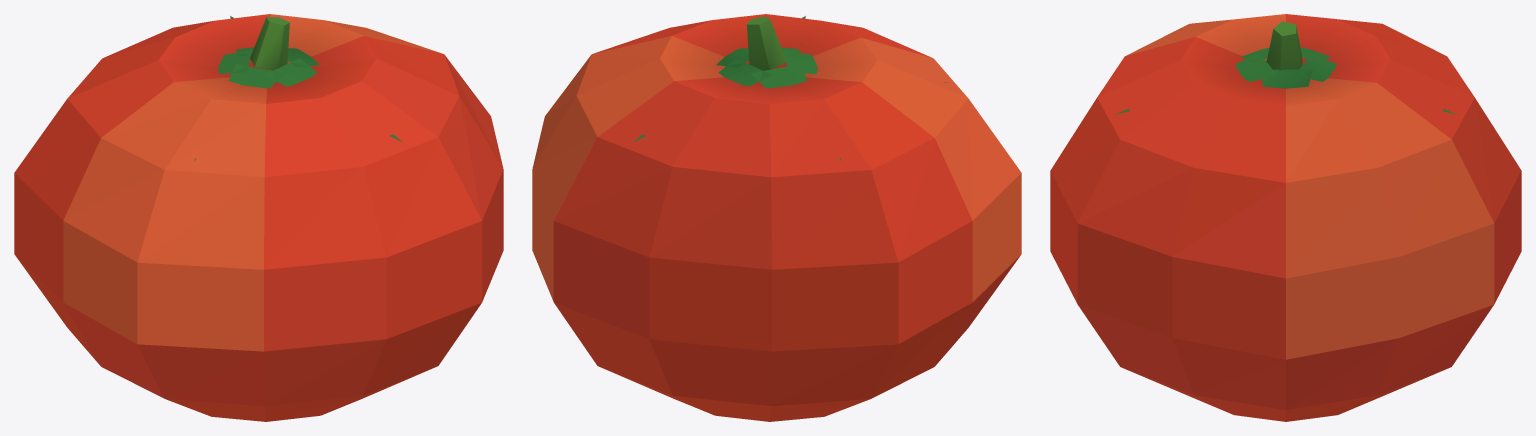
File: Tomato_produce.glb
3 renders of one model, left to right at view 1: azimuth 30°, elevation 25°; view 2: azimuth 150°, elevation 25°; view 3: azimuth 270°, elevation 25°, orthographic.
Visible parts, largest first — view 1: Tomato_produce; view 2: Tomato_produce; view 3: Tomato_produce.
Part boxes in pixels (bbox=[...]): Tomato_produce: bbox=[14, 14, 503, 421]; Tomato_produce: bbox=[532, 14, 1021, 421]; Tomato_produce: bbox=[1050, 14, 1521, 421].
Size of the model in its own units: 0.8774 by 0.7341 by 0.8423.
